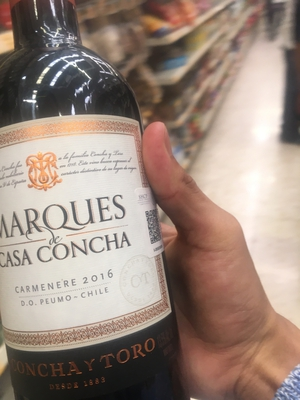marques de casa concha carmenere: (1, 38, 178, 400)
